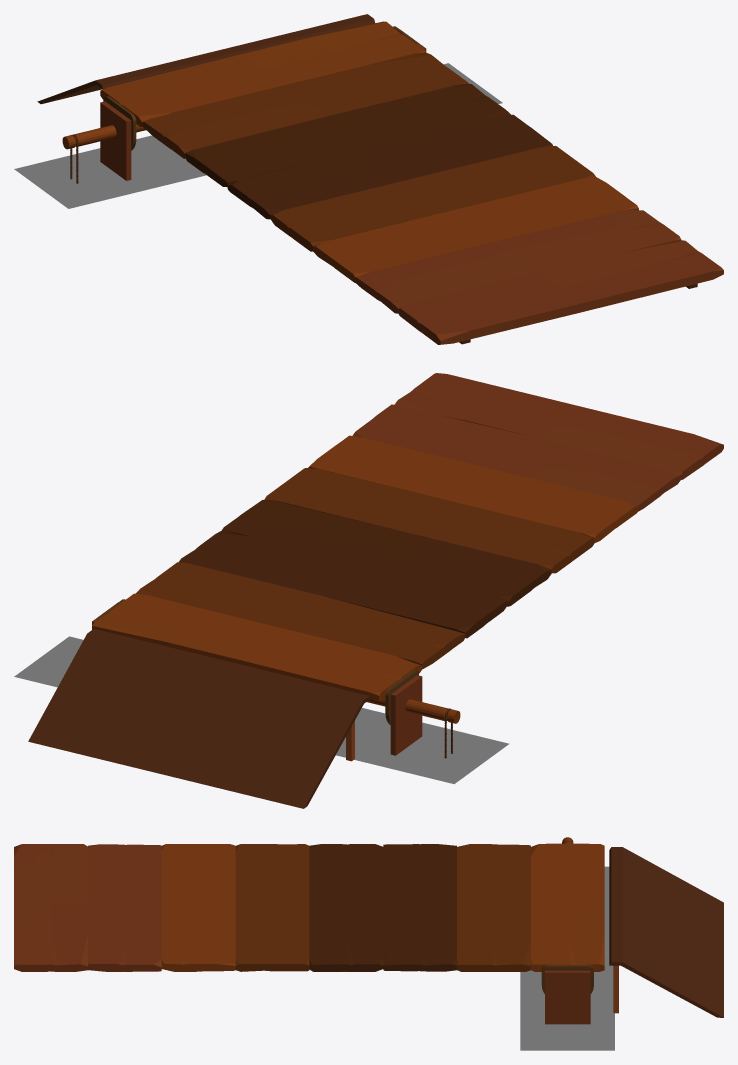
Rendered from FBX_ENV_RUIN_ZUGBRUECKE_IstUnten.fbx.
The picture shows the model from 3 angles, top to bottom: view 1: azimuth 30°, elevation 25°; view 2: azimuth 150°, elevation 25°; view 3: azimuth 270°, elevation 25°; orthographic projection. The views are drawn at different scales.
Parts seen in each view (by area): view 1: Cube.027, Circle.006; view 2: Cube.027, Circle.006; view 3: Cube.027, Circle.006.
Part boxes in pixels (x1,y1,x2,y2): Cube.027: [62, 21, 723, 344]; Circle.006: [14, 14, 502, 208]; Cube.027: [92, 373, 723, 724]; Circle.006: [14, 603, 509, 808]; Cube.027: [14, 837, 604, 993]; Circle.006: [520, 840, 723, 1050].
Size of the model in its own units: 230 by 35.73 by 375.
